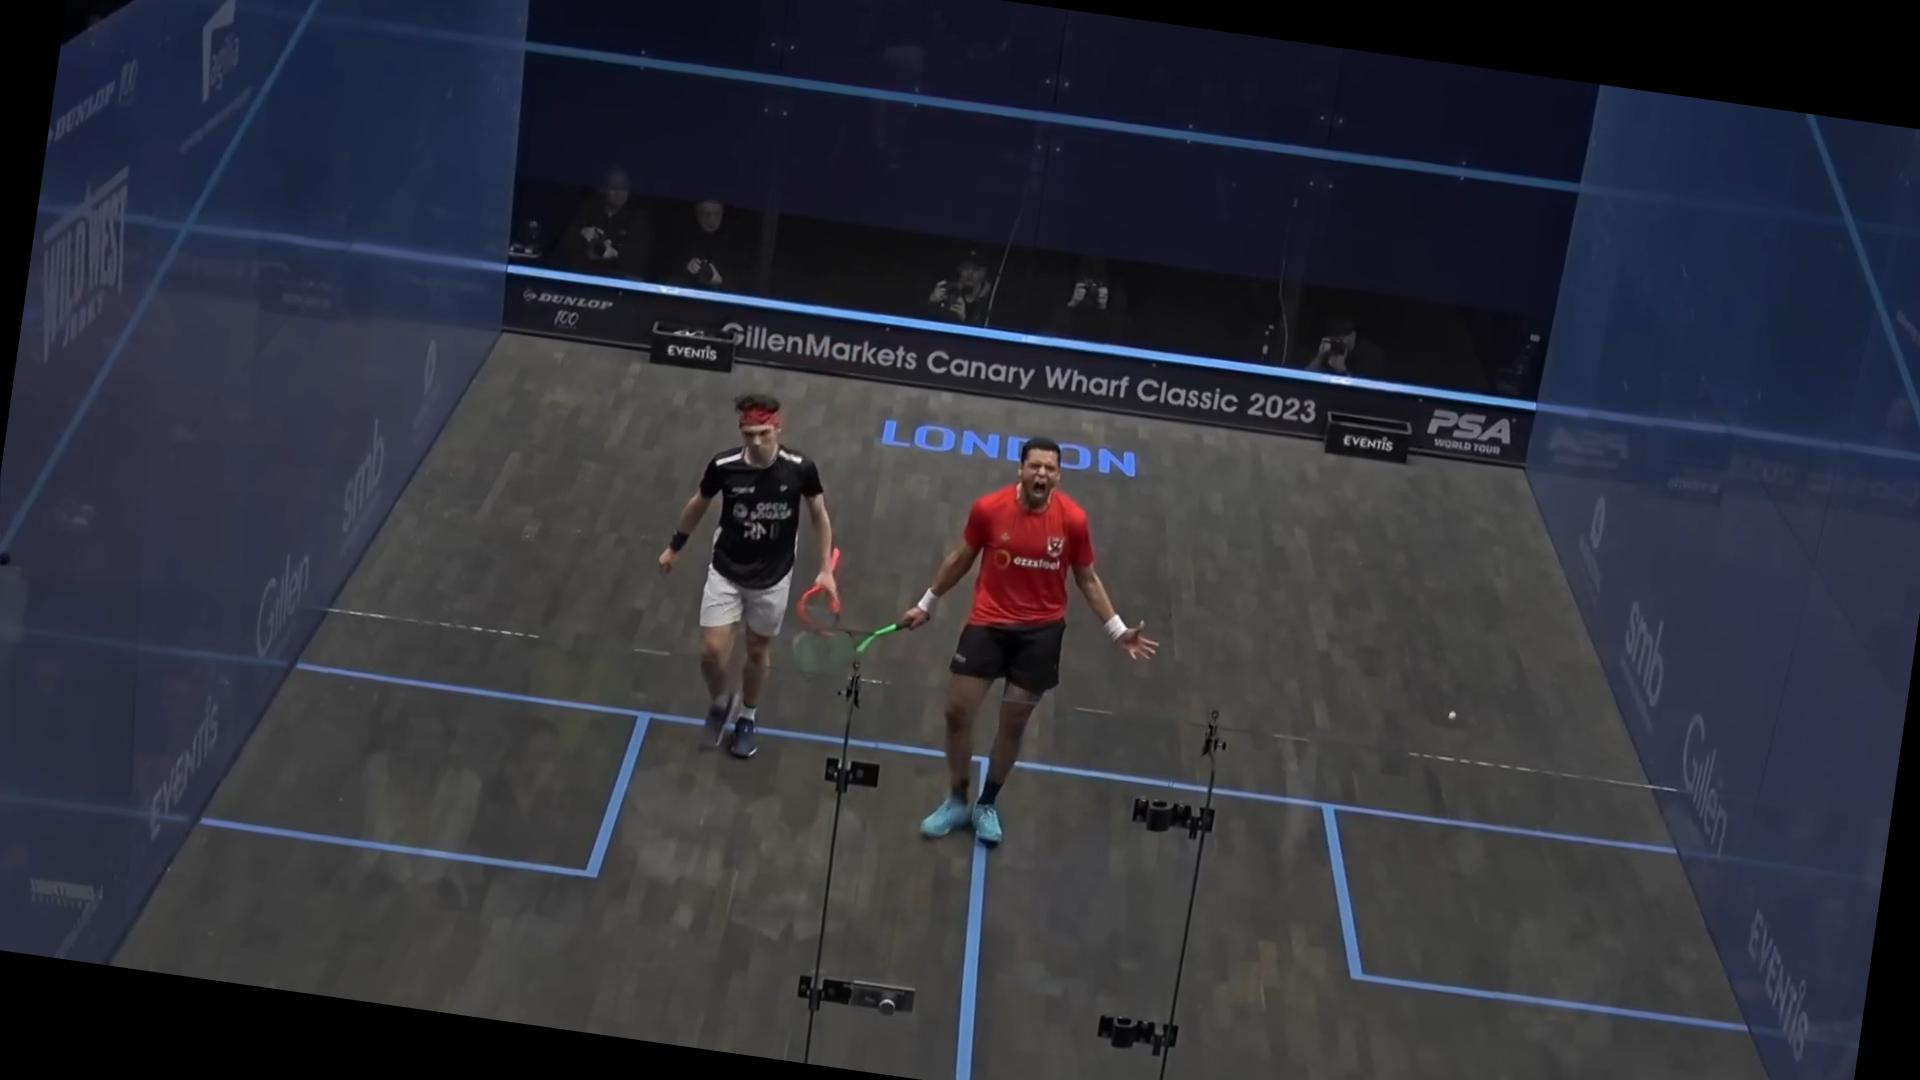Racket: (775, 604, 903, 692), (811, 564, 862, 636)
